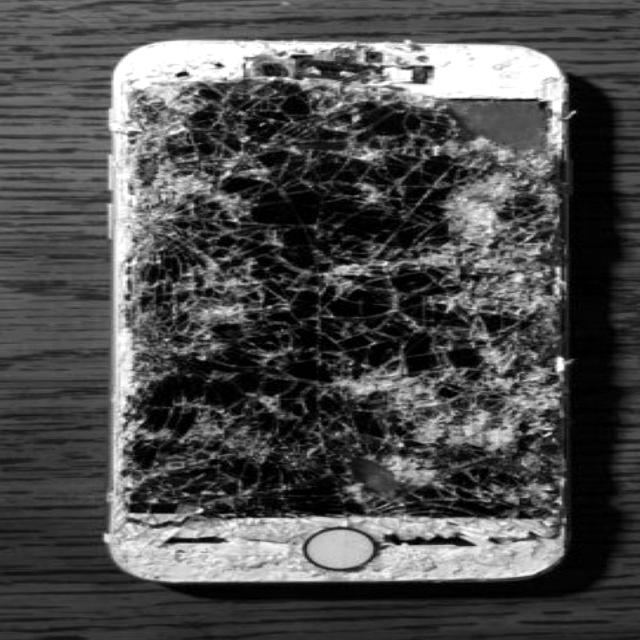Crack: (101, 29, 587, 580)
